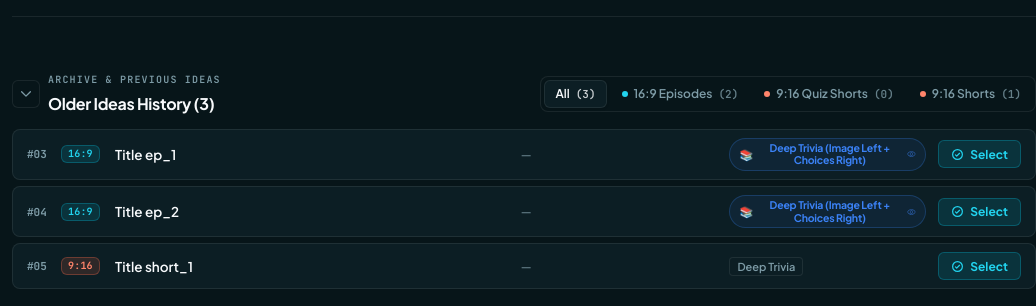
Test: TopicHistorySection › renders format filter tabs with correct metrics and switches filters
expect the tab "All (3)" is shown: met, box [544, 80, 606, 108]
expect the tab "16:9 Episodes (2)" is shown: met, box [610, 80, 749, 108]
Note: Select Short tab
Click the tab "9:16 Shorts (1)".
click(970, 94)  # box [909, 80, 1032, 108]
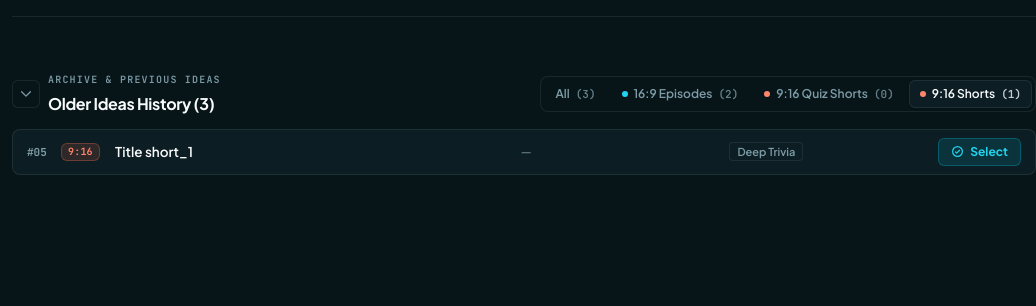
expect the text "Title short_1" is shown: met, box [115, 143, 193, 160]
expect the text "Title ep_1" is gone: met
